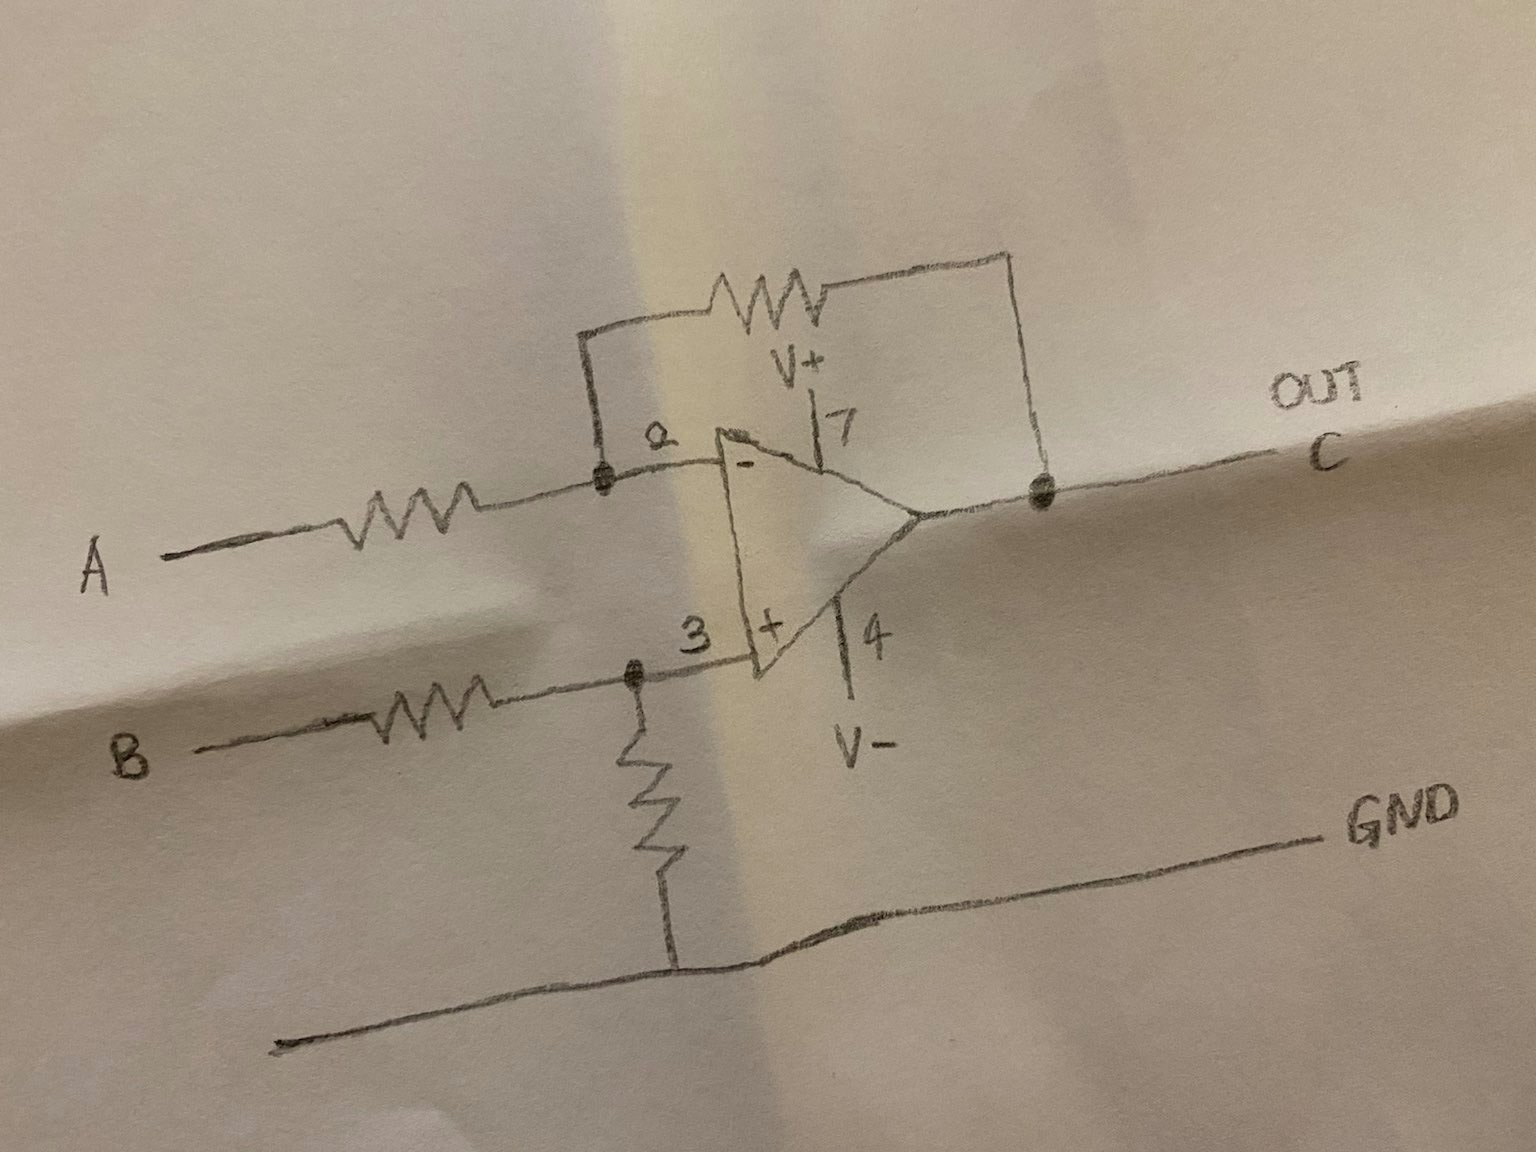junction: (1014, 457, 1076, 529), (572, 447, 633, 518), (643, 937, 706, 1001), (605, 643, 663, 705), (972, 226, 1030, 288), (564, 306, 617, 361)
operational_amplifier: (699, 408, 951, 692)
resistor: (314, 472, 503, 559), (607, 718, 692, 887), (343, 668, 504, 750), (688, 254, 845, 338)
terminal: (246, 1023, 337, 1071), (185, 724, 265, 768), (140, 532, 227, 572), (1226, 432, 1297, 476), (1272, 820, 1338, 863)
text: (1342, 781, 1463, 852), (1261, 357, 1378, 411), (102, 727, 158, 790), (1303, 422, 1361, 480), (71, 528, 115, 603), (828, 719, 868, 773), (855, 609, 897, 659), (822, 401, 866, 449), (676, 609, 717, 655), (767, 338, 799, 392), (639, 417, 687, 453), (756, 600, 789, 643), (870, 730, 911, 761), (802, 349, 835, 381), (733, 451, 761, 474)
